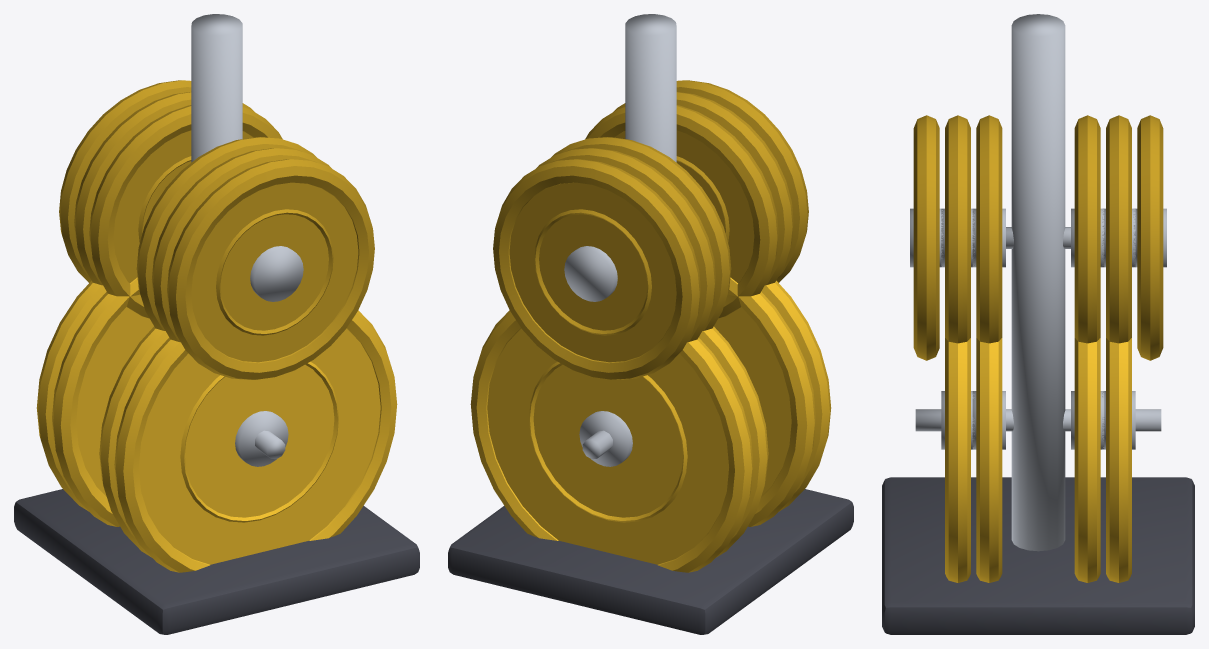
File: PlateTree.fbx
3 renders of one model, left to right at view 1: azimuth 30°, elevation 25°; view 2: azimuth 150°, elevation 25°; view 3: azimuth 270°, elevation 25°, orthographic. The views are drawn at different scales.
Visible parts, largest first — view 1: PlateTree_Body, PlateTree_Shade, PlateTree_Iron, PlateTree_Steel; view 2: PlateTree_Body, PlateTree_Shade, PlateTree_Iron, PlateTree_Steel; view 3: PlateTree_Shade, PlateTree_Iron, PlateTree_Steel, PlateTree_Body.
Part boxes in pixels (left/top/right/bottom): PlateTree_Body: left=36, top=277, right=397, bottom=572; PlateTree_Shade: left=59, top=80, right=374, bottom=379; PlateTree_Iron: left=14, top=489, right=419, bottom=634; PlateTree_Steel: left=191, top=14, right=303, bottom=466; PlateTree_Body: left=470, top=277, right=831, bottom=572; PlateTree_Shade: left=493, top=80, right=808, bottom=379; PlateTree_Iron: left=448, top=489, right=853, bottom=634; PlateTree_Steel: left=564, top=14, right=676, bottom=466; PlateTree_Shade: left=913, top=115, right=1163, bottom=360; PlateTree_Iron: left=882, top=477, right=1194, bottom=634; PlateTree_Steel: left=910, top=14, right=1166, bottom=551; PlateTree_Body: left=945, top=338, right=1131, bottom=582.
Bounding box in the file's own units: 150 × 270 × 140.
